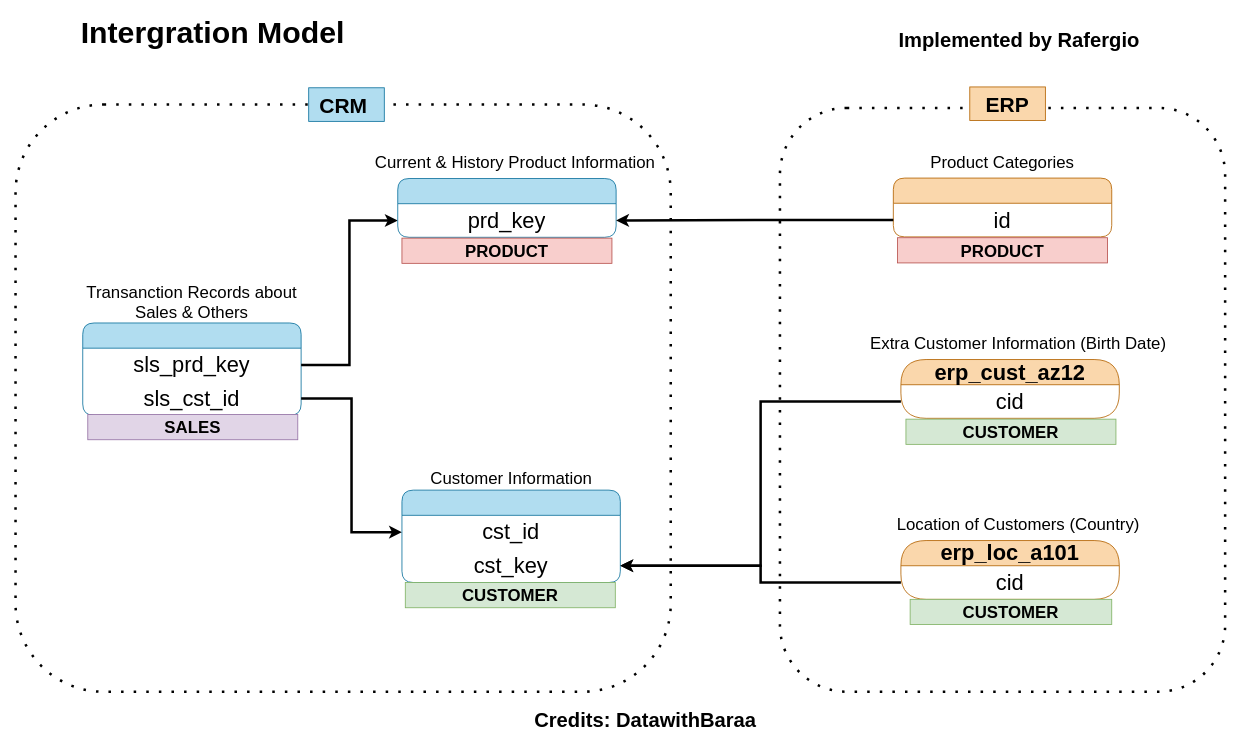
Some shapes in this 1241 by 748 pixel diagram are drawn without their labels. The box of each missing label's shape, as (x1, y1, x2, y2) in pixels:
crm_cust_info: (401, 489, 620, 583)
crm_prd_info: (397, 178, 616, 237)
crm_sales_details: (82, 322, 301, 415)
erp_px_cat_g1v2: (892, 177, 1112, 237)
